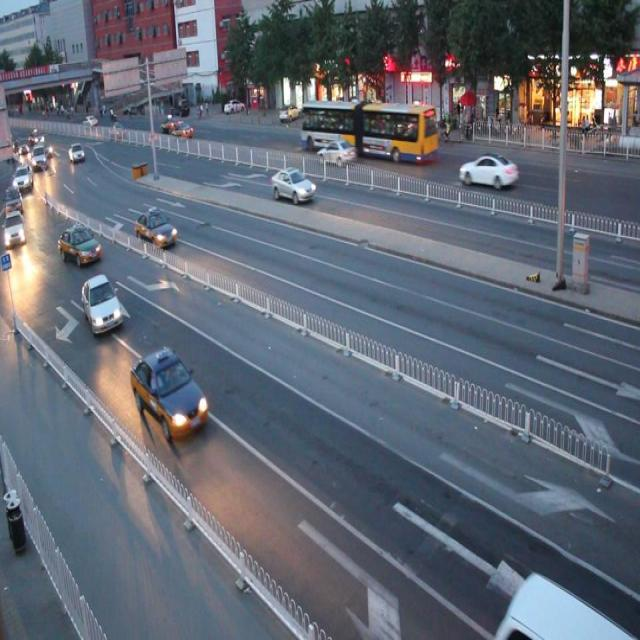car: (494, 569, 640, 640), (131, 347, 207, 440), (82, 273, 122, 335), (457, 150, 517, 191), (57, 222, 102, 266), (136, 206, 176, 248), (272, 166, 314, 203), (316, 140, 354, 166)
van: (301, 99, 437, 162)
